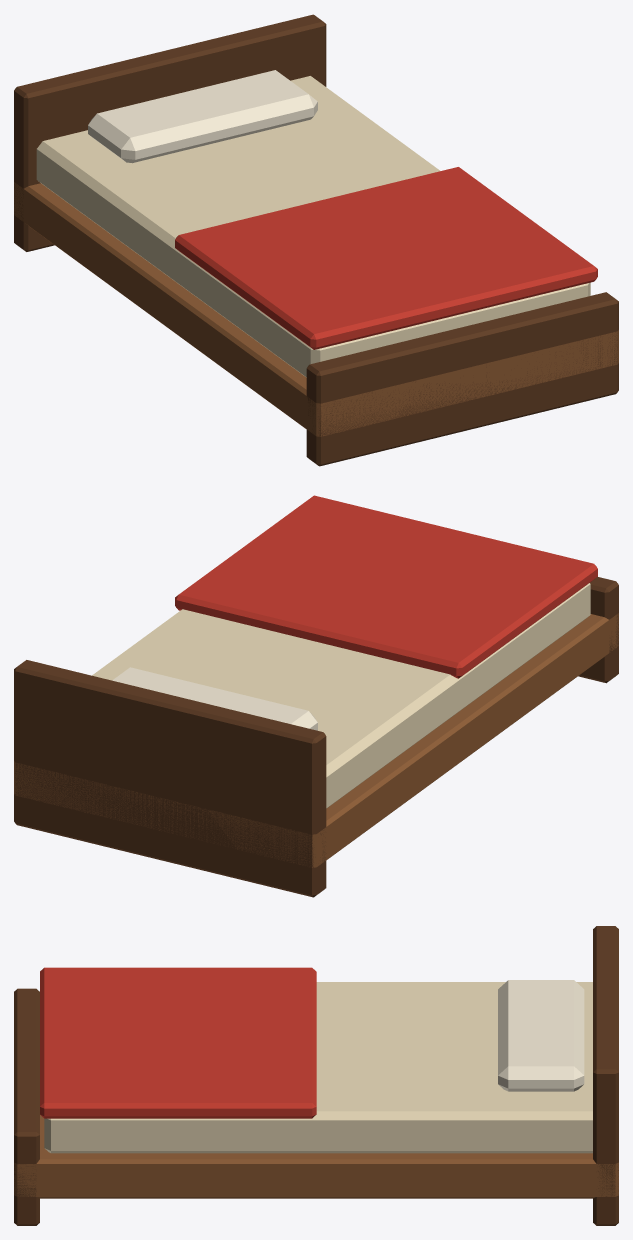
The model's file is Bed.fbx.
3 views of the same model, one above another, from view 1: azimuth 30°, elevation 25°; view 2: azimuth 150°, elevation 25°; view 3: azimuth 270°, elevation 25° (orthographic).
Parts seen in each view (by area): view 1: Bed; view 2: Bed; view 3: Bed.
Boxes of the visible parts, x1,y1,x2,y2 form: Bed: [14, 14, 618, 466]; Bed: [14, 495, 618, 897]; Bed: [14, 926, 618, 1225].
Size of the model in its own units: 4 by 2 by 7.
